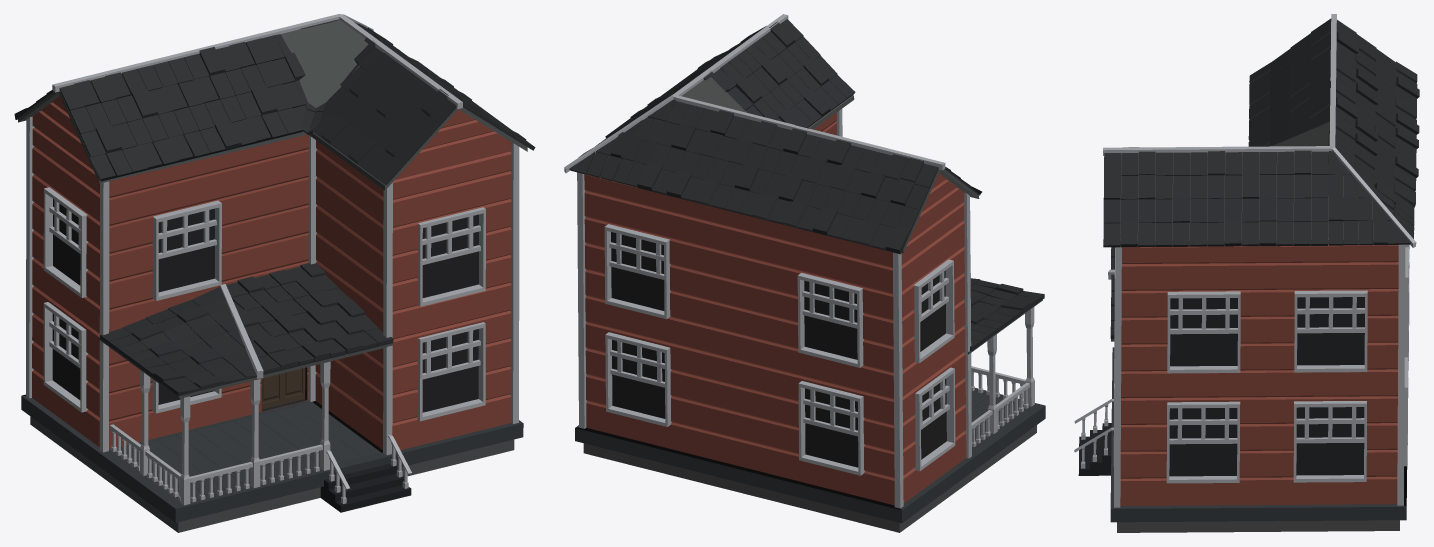
File: FarmHouse_01_C.gltf
3 views of the same model, side by side, from view 1: azimuth 30°, elevation 25°; view 2: azimuth 150°, elevation 25°; view 3: azimuth 270°, elevation 25° (orthographic). The views are drawn at different scales.
Visible parts, largest first — view 1: FarmHouse_01_C, FarmHouseDoor_01_C; view 2: FarmHouse_01_C; view 3: FarmHouse_01_C.
Boxes of the visible parts, box(x1,y1,x2,y2) form: FarmHouse_01_C: box(14, 14, 535, 532); FarmHouseDoor_01_C: box(261, 368, 305, 409); FarmHouse_01_C: box(564, 14, 1045, 532); FarmHouse_01_C: box(1074, 14, 1419, 532).
Bounding box in the file's own units: 2.72 × 2.66 × 2.33.
